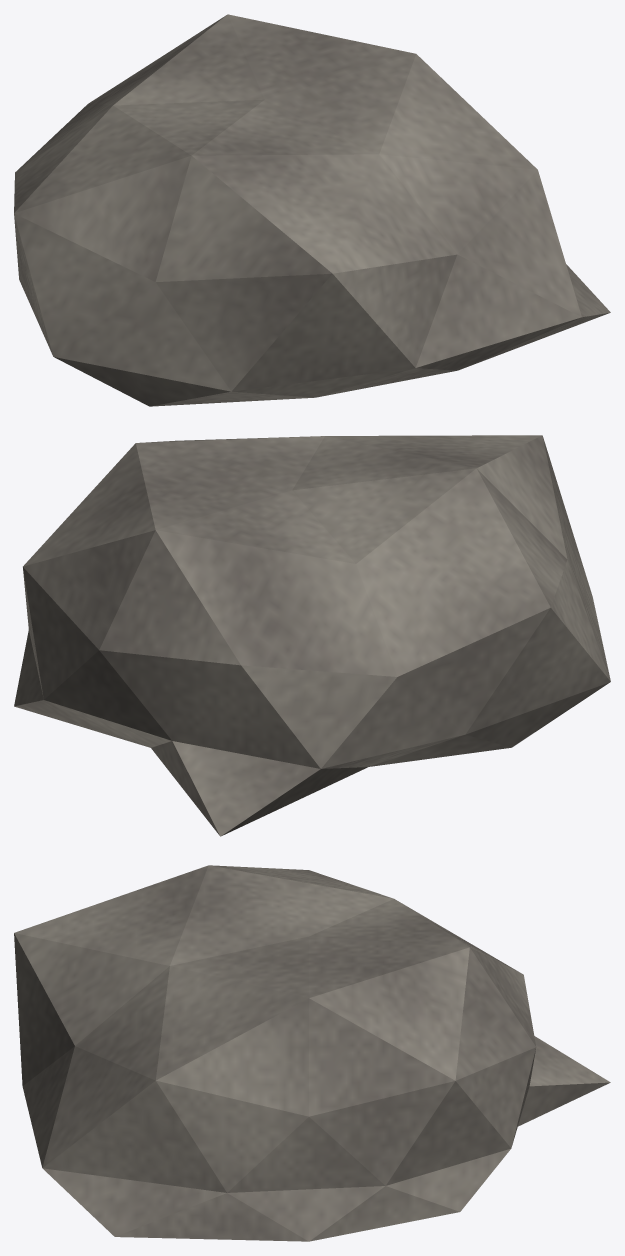
The model's file is rock_medium.glb.
The picture shows the model from 3 angles, top to bottom: view 1: azimuth 30°, elevation 25°; view 2: azimuth 150°, elevation 25°; view 3: azimuth 270°, elevation 25°; orthographic projection. The views are drawn at different scales.
Parts seen in each view (by area): view 1: rock_medium; view 2: rock_medium; view 3: rock_medium.
Part boxes in pixels (x1=…): rock_medium: x1=14, y1=14, x2=610, y2=406; rock_medium: x1=14, y1=435, x2=610, y2=836; rock_medium: x1=14, y1=865, x2=610, y2=1241.
Bounding box in the file's own units: 1.43 × 0.5592 × 1.51.
Materials: 1 (1 with a texture image).
